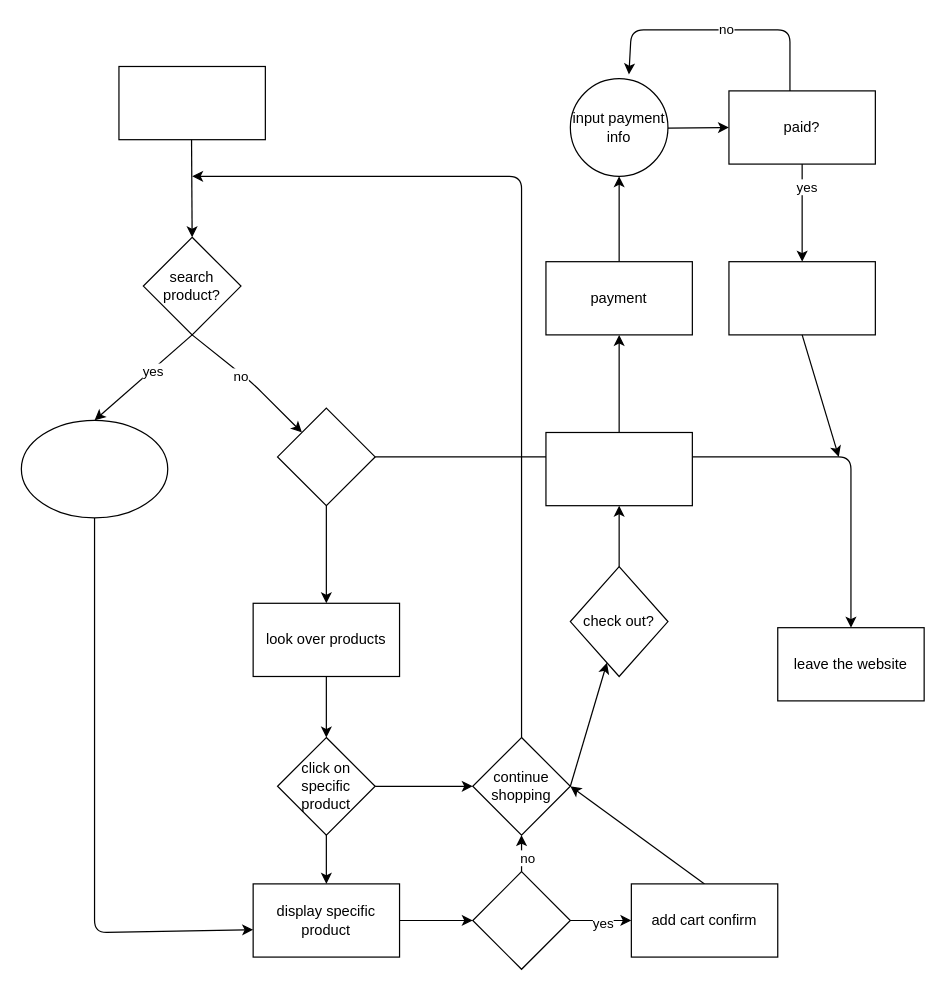
Some shapes in this 946 by 991 pixel diagram are drawn without their labels. The shapes that lost their labels are listed below. From the top down, each one's centre as x and y in pixels, then its label:
At (x=191, y=102): "user enter the website".
At (x=801, y=297): "confirm info".
At (x=94, y=468): "input:what are you looking for?".
At (x=325, y=456): "explore products?".
At (x=618, y=468): "card".
At (x=521, y=919): "add to cart?".
